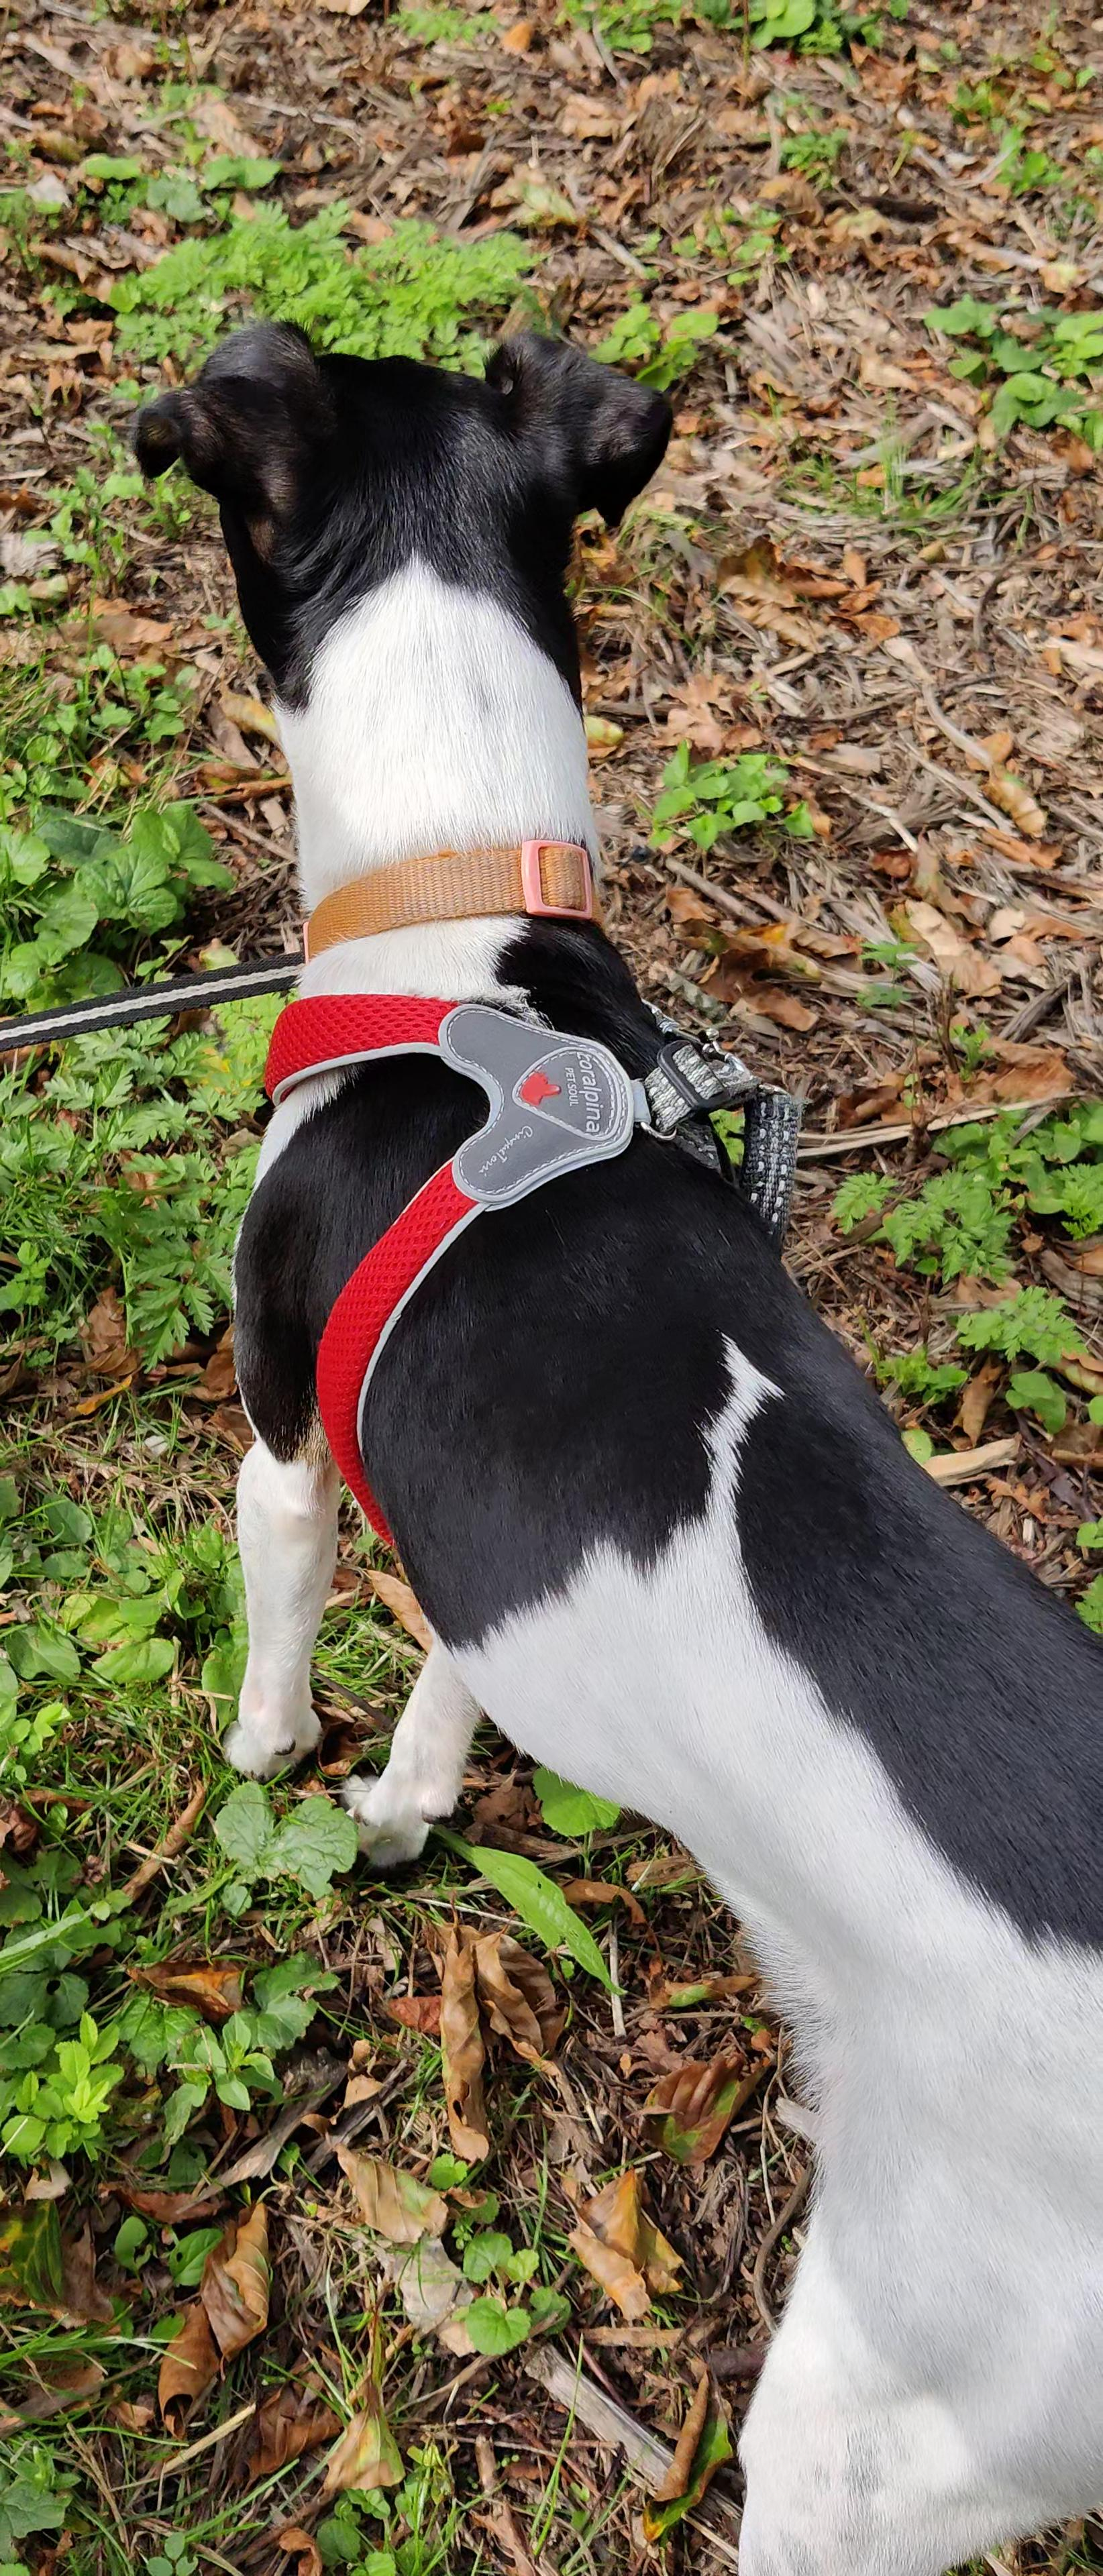Dog: (74, 268, 1103, 2576)
